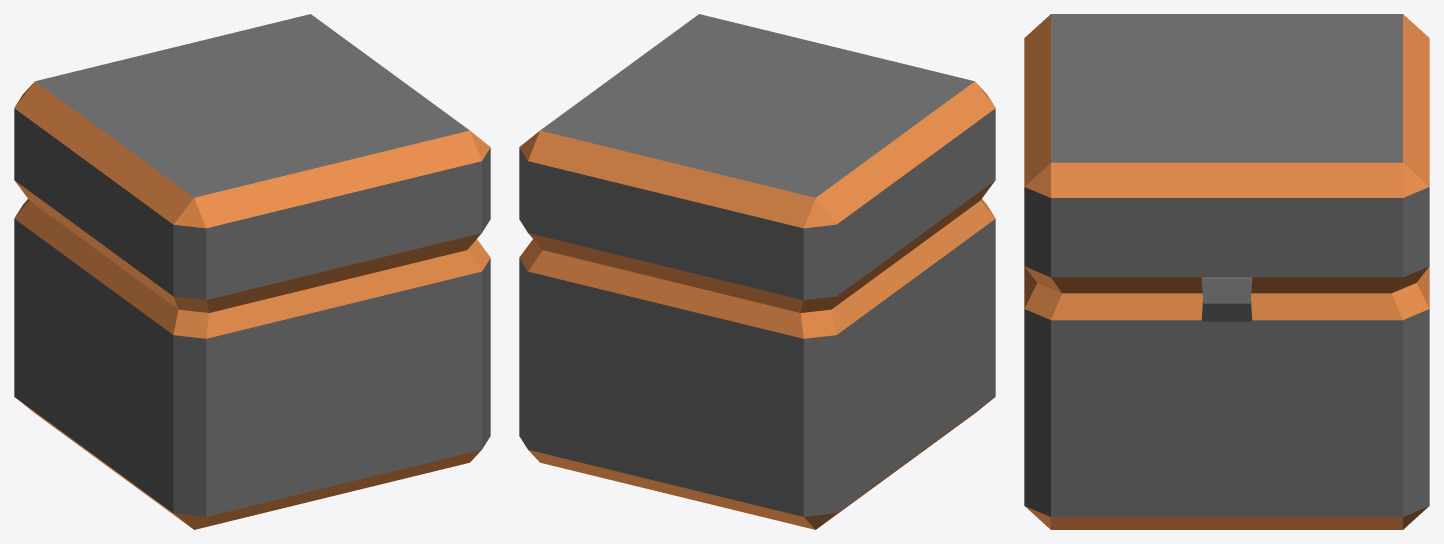
The model's file is chest.glb.
The picture shows the model from 3 angles, left to right: view 1: azimuth 30°, elevation 25°; view 2: azimuth 150°, elevation 25°; view 3: azimuth 270°, elevation 25°; orthographic projection. The views are drawn at different scales.
Visible parts, largest first — view 1: Cube; view 2: Cube; view 3: Cube.
Boxes of the visible parts, box(x1,y1,x2,y2) form: Cube: box(14, 14, 490, 529); Cube: box(519, 14, 995, 529); Cube: box(1024, 14, 1429, 529).
Bounding box in the file's own units: 206 × 200 × 200.
